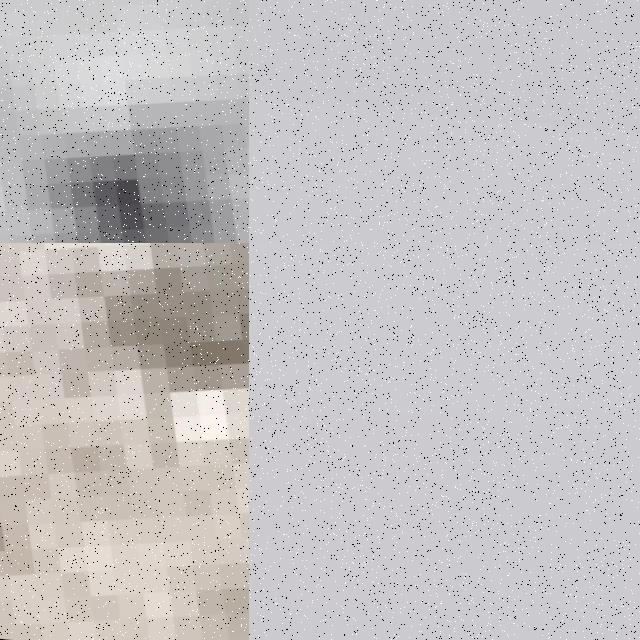0: (0, 0, 249, 243)
drone: (0, 243, 249, 640)
